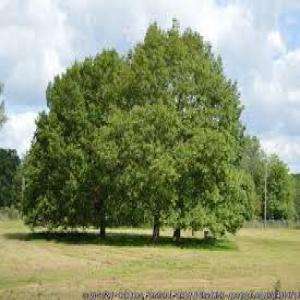Tree: (19, 44, 150, 243), (142, 20, 252, 248)
